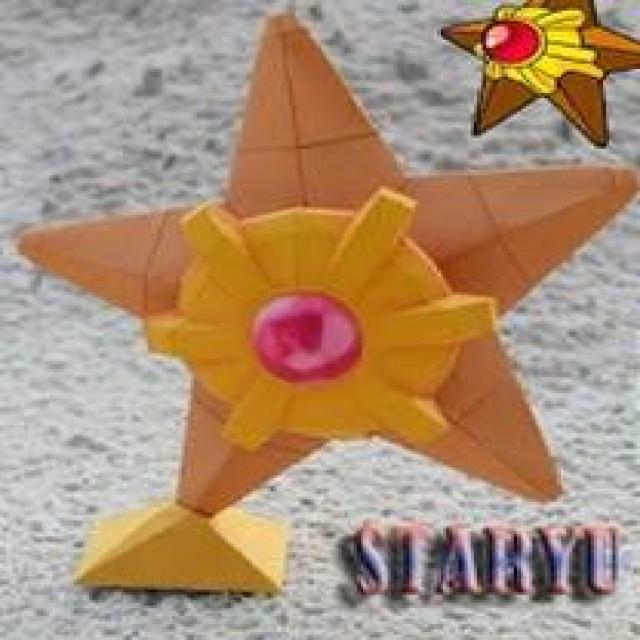Staryu: (116, 34, 631, 499), (426, 2, 640, 149)
